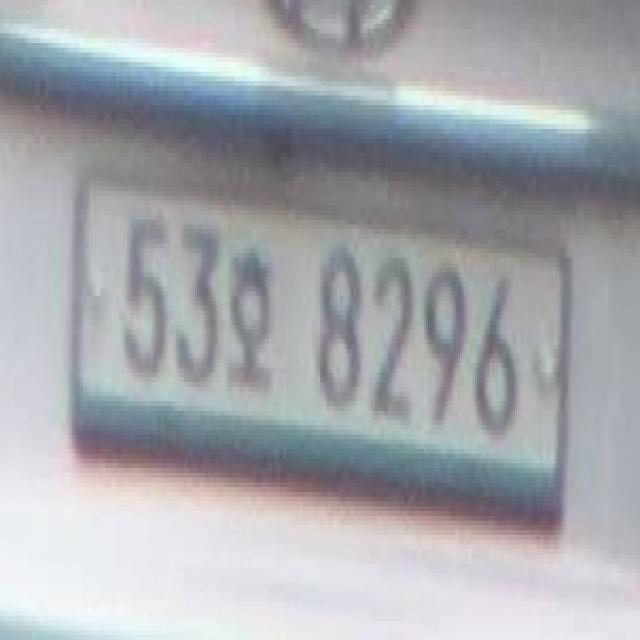2: (366, 234, 419, 439)
3: (172, 201, 222, 401)
5: (125, 200, 170, 392)
6: (477, 258, 521, 463)
8: (316, 220, 366, 430)
9: (418, 239, 468, 439)
ho: (220, 220, 278, 401)
license_plate: (64, 172, 574, 530)
